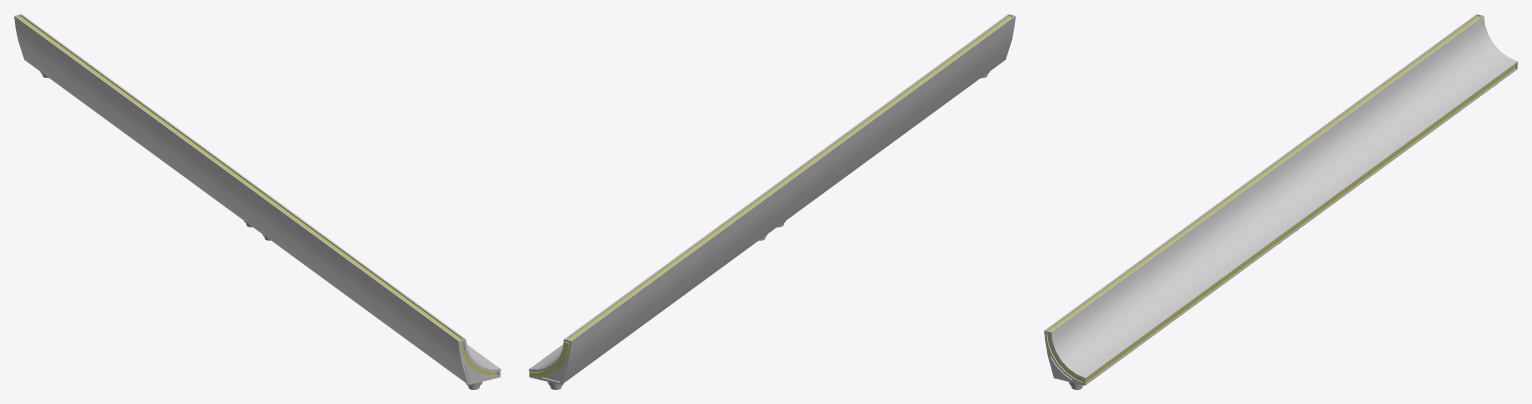
File: AdvertisingBoardSlotStraight.fbx
The picture shows the model from 3 angles, left to right: view 1: azimuth 30°, elevation 25°; view 2: azimuth 150°, elevation 25°; view 3: azimuth 330°, elevation 25°; orthographic projection. The views are drawn at different scales.
Visible parts, largest first — view 1: AdvertisingBoardsSlotsStraight; view 2: AdvertisingBoardsSlotsStraight; view 3: AdvertisingBoardsSlotsStraight.
Part boxes in pixels (left/top/right/bottom): AdvertisingBoardsSlotsStraight: left=14, top=14, right=500, bottom=389; AdvertisingBoardsSlotsStraight: left=529, top=14, right=1015, bottom=389; AdvertisingBoardsSlotsStraight: left=1044, top=14, right=1517, bottom=389.
Bounding box in the file's own units: 27.63 × 36.83 × 502.
